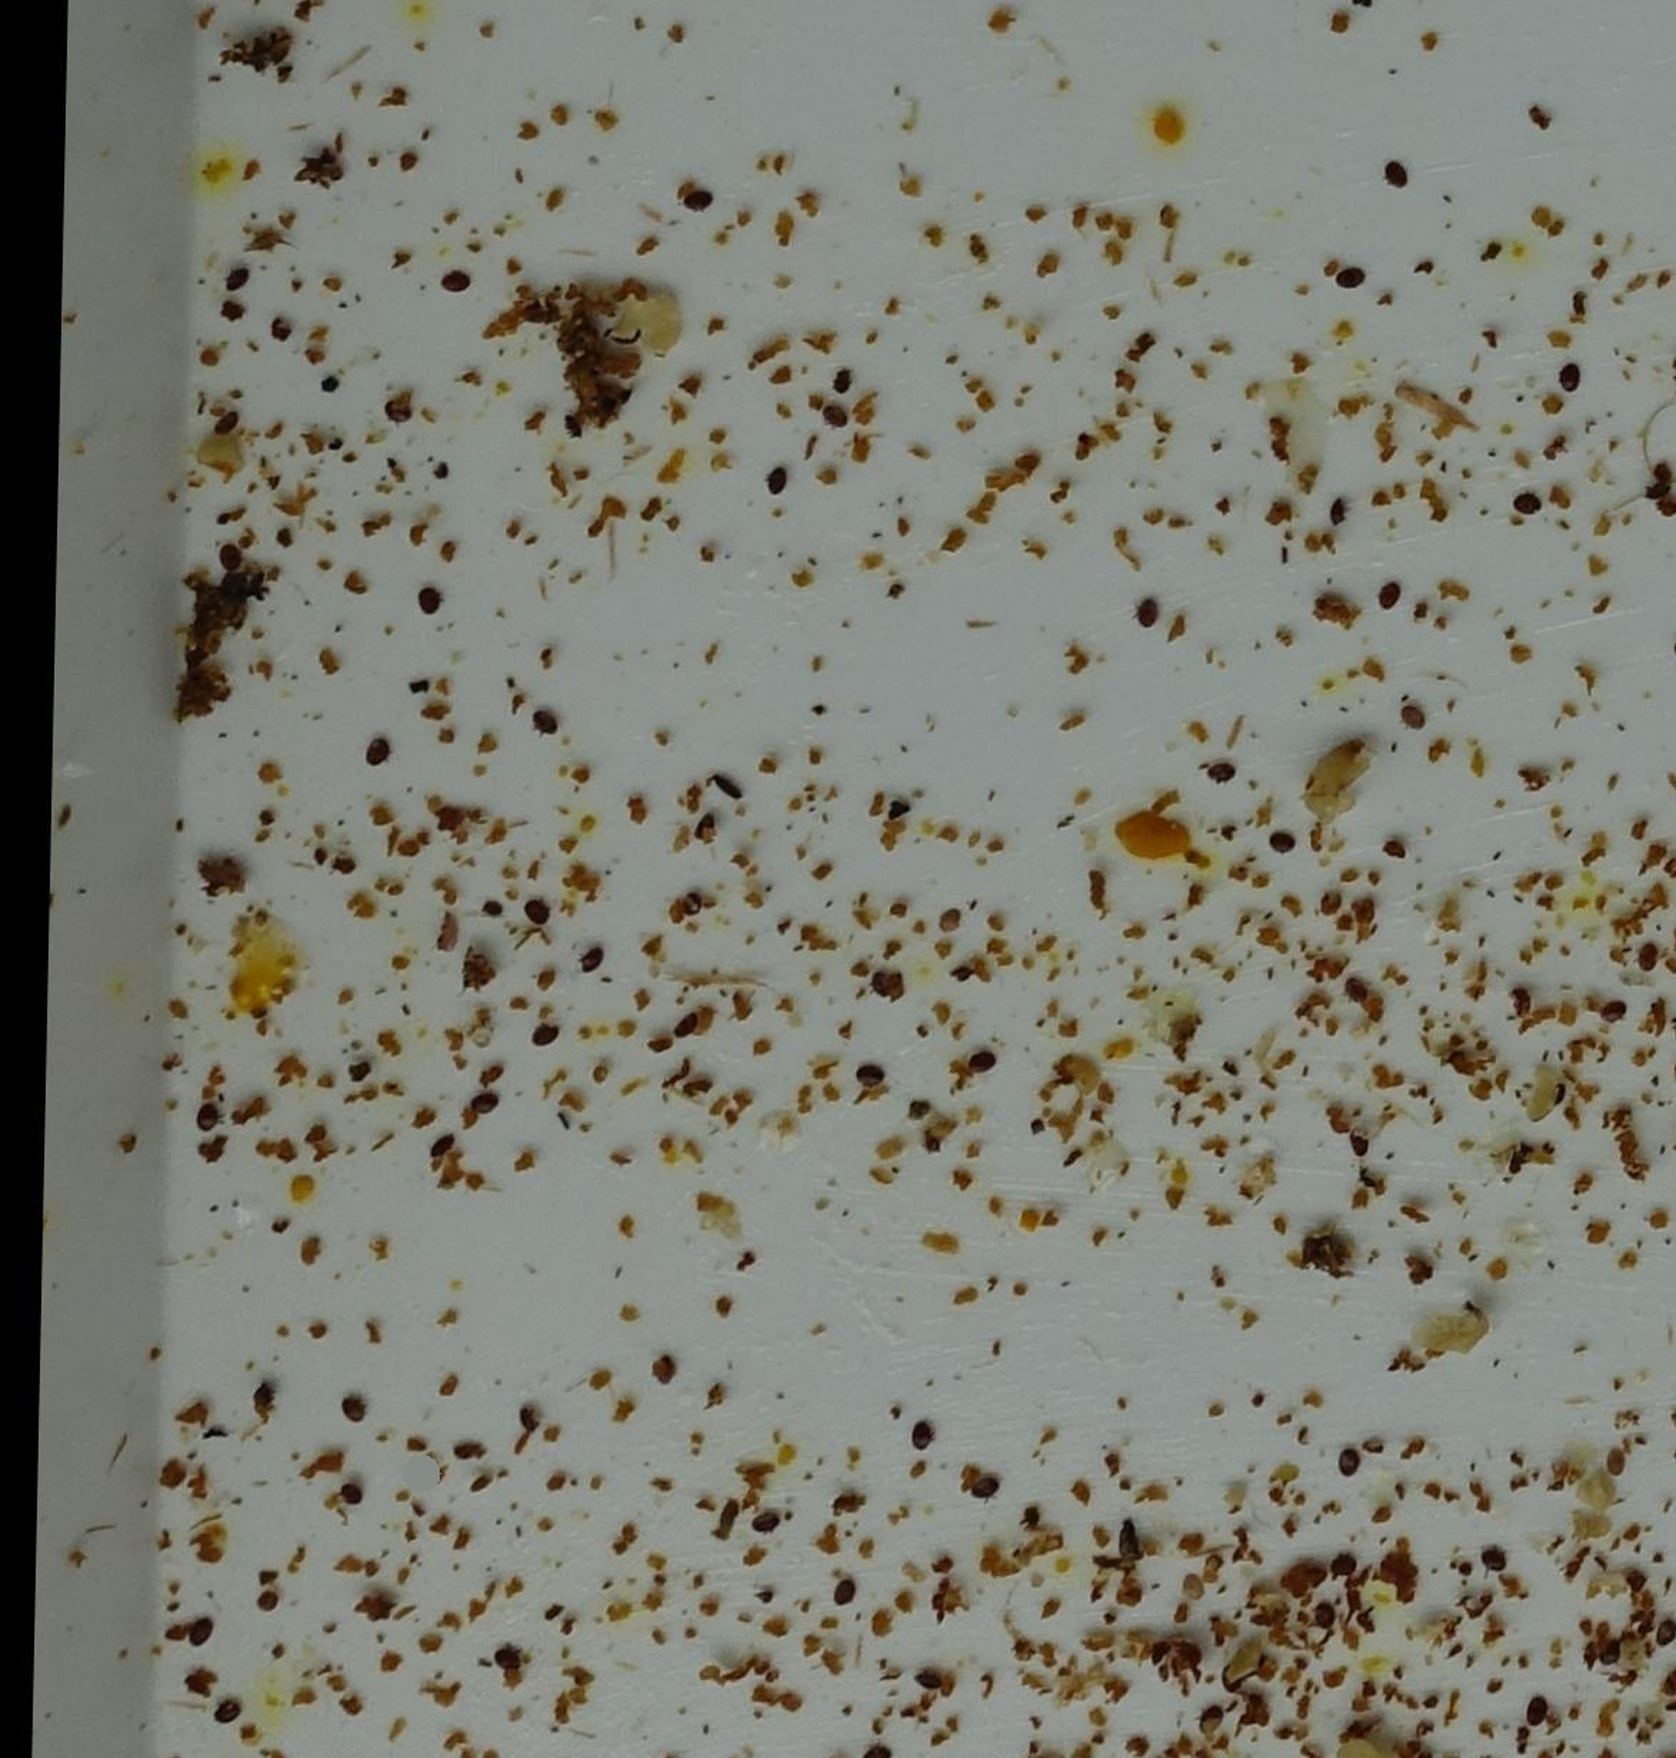Varroa: (551, 403, 593, 447), (1313, 491, 1357, 534), (683, 805, 727, 848), (858, 964, 902, 1006), (643, 1347, 686, 1391), (505, 1397, 549, 1439), (1186, 1697, 1230, 1739), (1208, 1658, 1252, 1700), (1588, 1629, 1630, 1673), (421, 1125, 463, 1168), (1535, 1074, 1577, 1116), (673, 1009, 708, 1044), (180, 1618, 213, 1651), (1507, 487, 1536, 523), (1601, 998, 1632, 1031), (213, 1697, 245, 1730), (381, 400, 414, 432), (822, 397, 854, 429), (959, 1045, 989, 1078), (337, 1400, 367, 1433), (1331, 1551, 1361, 1584), (909, 1417, 938, 1449), (678, 182, 708, 213), (1383, 159, 1412, 190), (530, 1023, 560, 1055), (1554, 364, 1583, 396), (832, 1585, 862, 1617), (971, 1471, 1001, 1501), (676, 898, 706, 928), (574, 945, 604, 975), (1130, 600, 1160, 629), (1519, 1698, 1549, 1728), (1345, 1129, 1375, 1158), (750, 1510, 778, 1541), (1373, 582, 1401, 614), (469, 1096, 501, 1124), (763, 465, 791, 494), (1268, 827, 1296, 857), (493, 1650, 521, 1680), (364, 736, 392, 766), (1401, 708, 1430, 738), (1332, 267, 1362, 295), (1309, 1603, 1337, 1632), (1634, 946, 1663, 975), (1335, 1447, 1364, 1477), (1339, 972, 1367, 1001), (855, 1066, 884, 1094), (414, 589, 443, 617), (1208, 758, 1237, 786), (196, 1099, 224, 1127), (221, 265, 250, 294), (530, 709, 559, 738), (443, 268, 469, 298), (217, 542, 243, 571), (337, 1480, 364, 1508), (1480, 1548, 1508, 1574), (923, 1672, 949, 1700), (523, 899, 549, 928), (1601, 1446, 1627, 1474), (215, 413, 239, 436)
